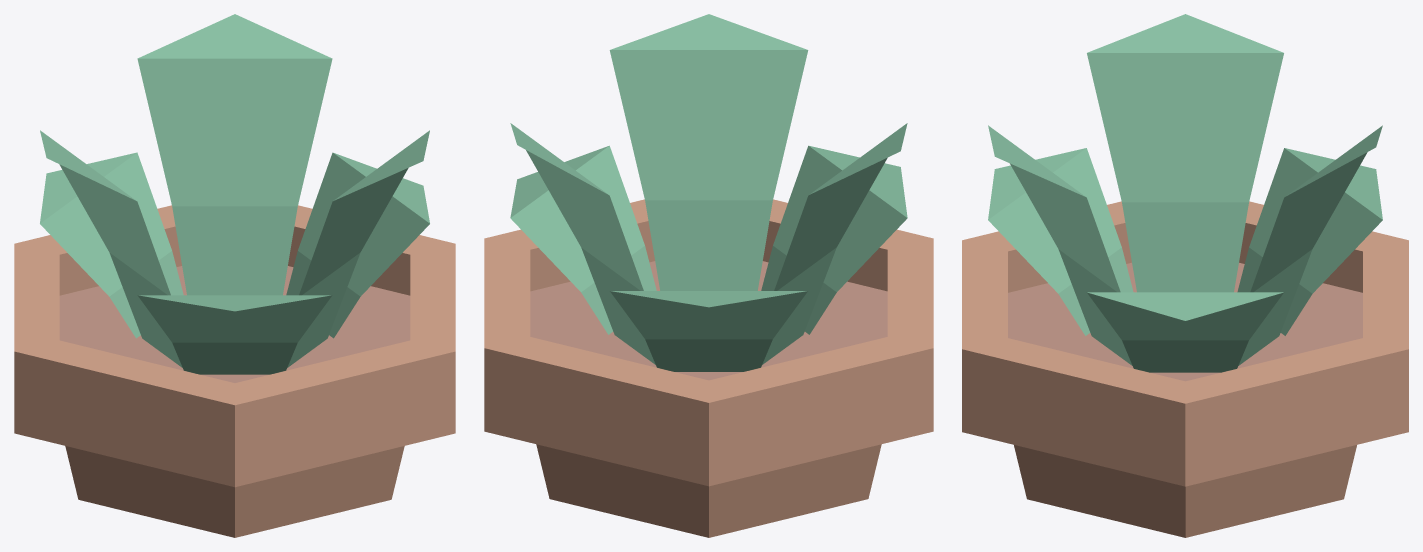
Rendered from potted_plant.glb.
3 views of the same model, side by side, from view 1: azimuth 30°, elevation 25°; view 2: azimuth 150°, elevation 25°; view 3: azimuth 270°, elevation 25° (orthographic).
Parts seen in each view (by area): view 1: potted_plant; view 2: potted_plant; view 3: potted_plant.
Part boxes in pixels (<box>): potted_plant: <box>14,14,455,537</box>; potted_plant: <box>484,14,933,537</box>; potted_plant: <box>962,14,1408,537</box>.
Size of the model in its own units: 0.789 by 0.6073 by 0.6833.
